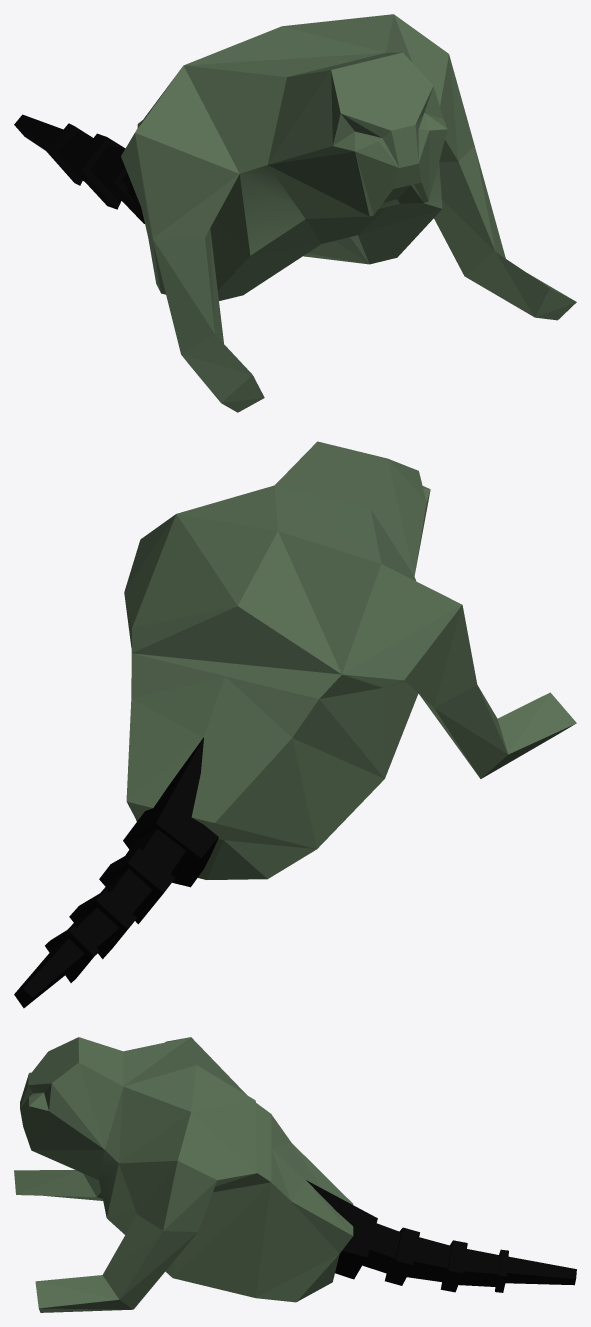
Rendered from HELLSCAPEXPORTTESTSNAKEY.FBX.
3 views of the same model, one above another, from view 1: azimuth 30°, elevation 25°; view 2: azimuth 150°, elevation 25°; view 3: azimuth 270°, elevation 25° (orthographic). The views are drawn at different scales.
Visible parts, largest first — view 1: Box001, Object001; view 2: Box001, Object001; view 3: Box001, Object001.
Boxes of the visible parts, x1=… form: Box001: x1=121, y1=14, x2=576, y2=412; Object001: x1=14, y1=114, x2=144, y2=223; Box001: x1=124, y1=441, x2=576, y2=879; Object001: x1=14, y1=737, x2=218, y2=1008; Box001: x1=14, y1=1037, x2=353, y2=1312; Object001: x1=306, y1=1180, x2=576, y2=1292.
Bounding box in the file's own units: 65.93 × 56.79 × 119.
